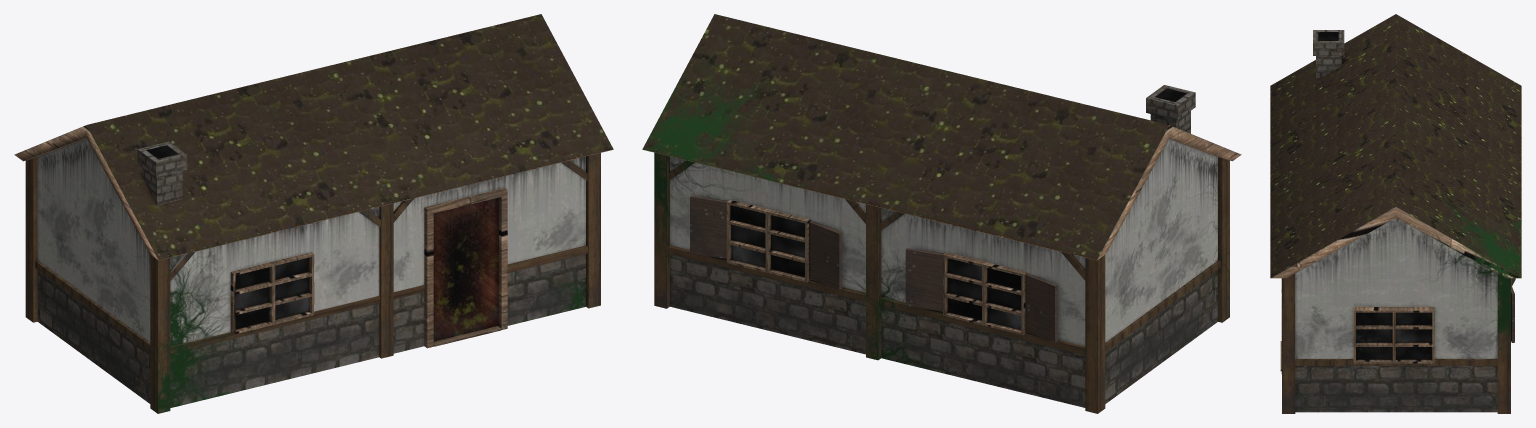
File: Medieval_House_3.glb
3 renders of one model, left to right at view 1: azimuth 30°, elevation 25°; view 2: azimuth 150°, elevation 25°; view 3: azimuth 270°, elevation 25°, orthographic. The views are drawn at different scales.
Visible parts, largest first — view 1: Medieval_House_3.glb; view 2: Medieval_House_3.glb; view 3: Medieval_House_3.glb.
Boxes of the visible parts, <box> form: Medieval_House_3.glb: <box>14,14,613,413</box>; Medieval_House_3.glb: <box>642,14,1241,413</box>; Medieval_House_3.glb: <box>1270,14,1521,413</box>.
Bounding box in the file's own units: 590 × 300 × 325.
Materials: 1 (1 with a texture image).
